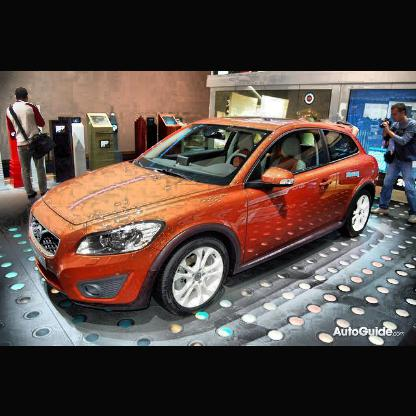Volvo C30 Hatchback 2012: (21, 121, 383, 317)
